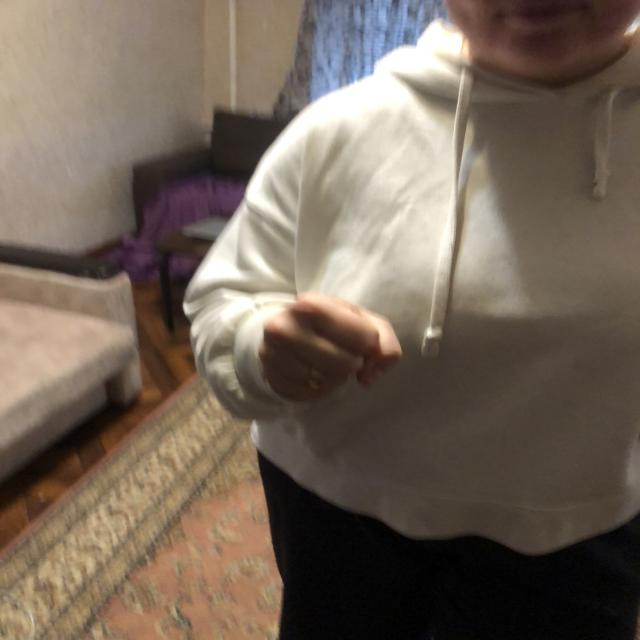rock: (256, 297, 405, 402)
